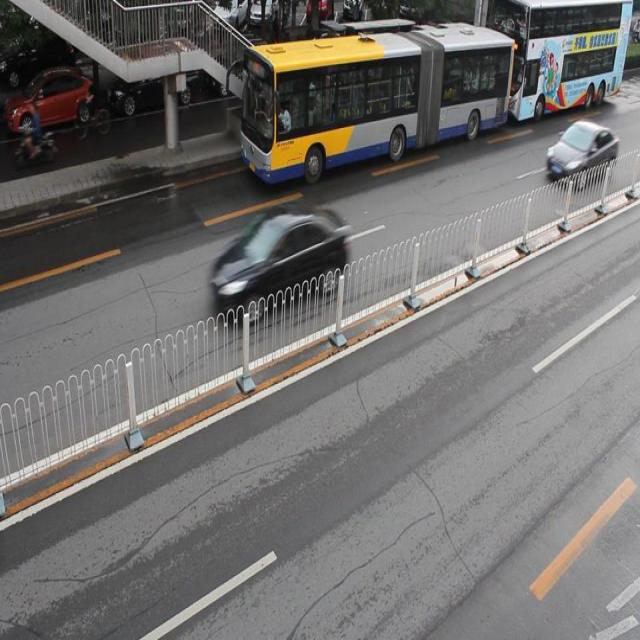car: (211, 198, 344, 320), (0, 65, 94, 132), (104, 49, 198, 109), (545, 117, 616, 186), (208, 34, 277, 98), (291, 35, 363, 93)
van: (241, 21, 512, 178), (485, 1, 630, 119)
